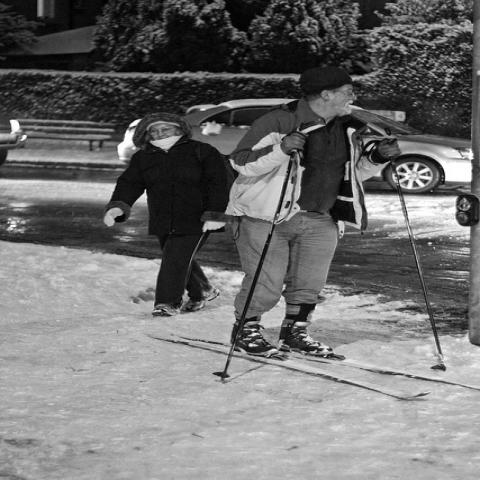car: (117, 99, 472, 194)
